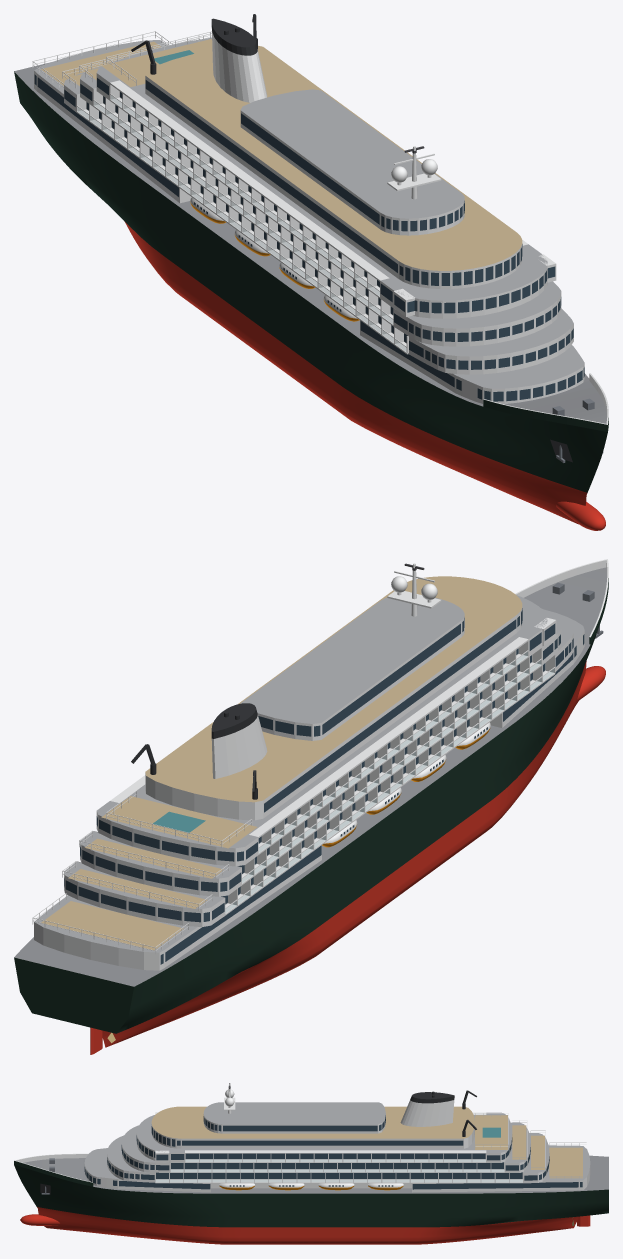
The model's file is ambient_cruise_ship_close.fbx.
3 renders of one model, top to bottom at view 1: azimuth 30°, elevation 25°; view 2: azimuth 150°, elevation 25°; view 3: azimuth 270°, elevation 25°, orthographic. The views are drawn at different scales.
Visible parts, largest first — view 1: ambient_cruise_ship_close; view 2: ambient_cruise_ship_close; view 3: ambient_cruise_ship_close.
Boxes of the visible parts, x1,y1,x2,y2 form: ambient_cruise_ship_close: [14, 14, 608, 530]; ambient_cruise_ship_close: [14, 559, 608, 1054]; ambient_cruise_ship_close: [14, 1083, 608, 1244].
Size of the model in its own units: 26.06 by 42.6 by 160.
